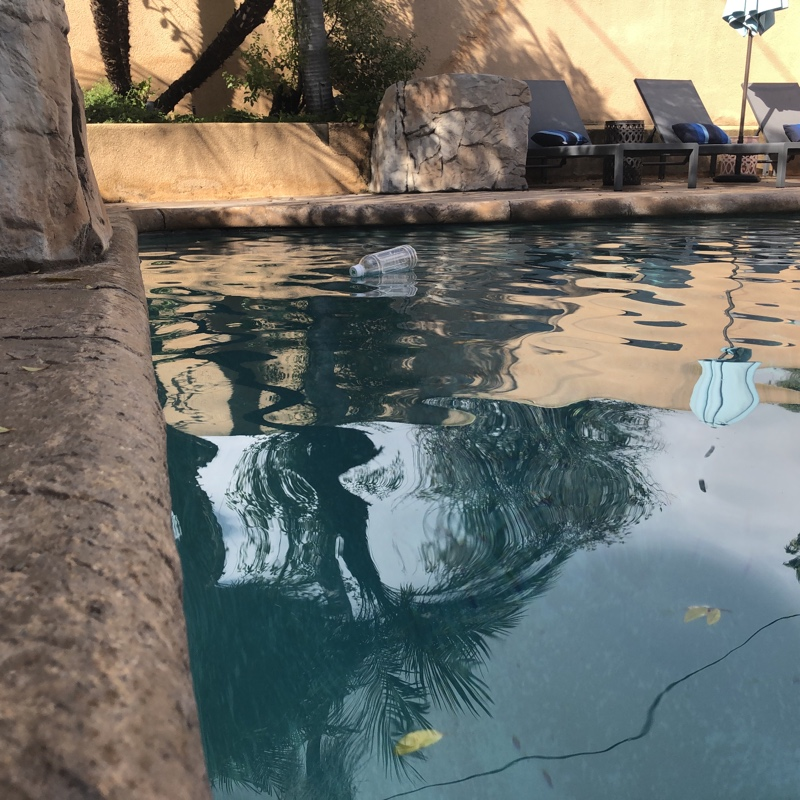Plastic Bottle: (346, 245, 420, 278)
